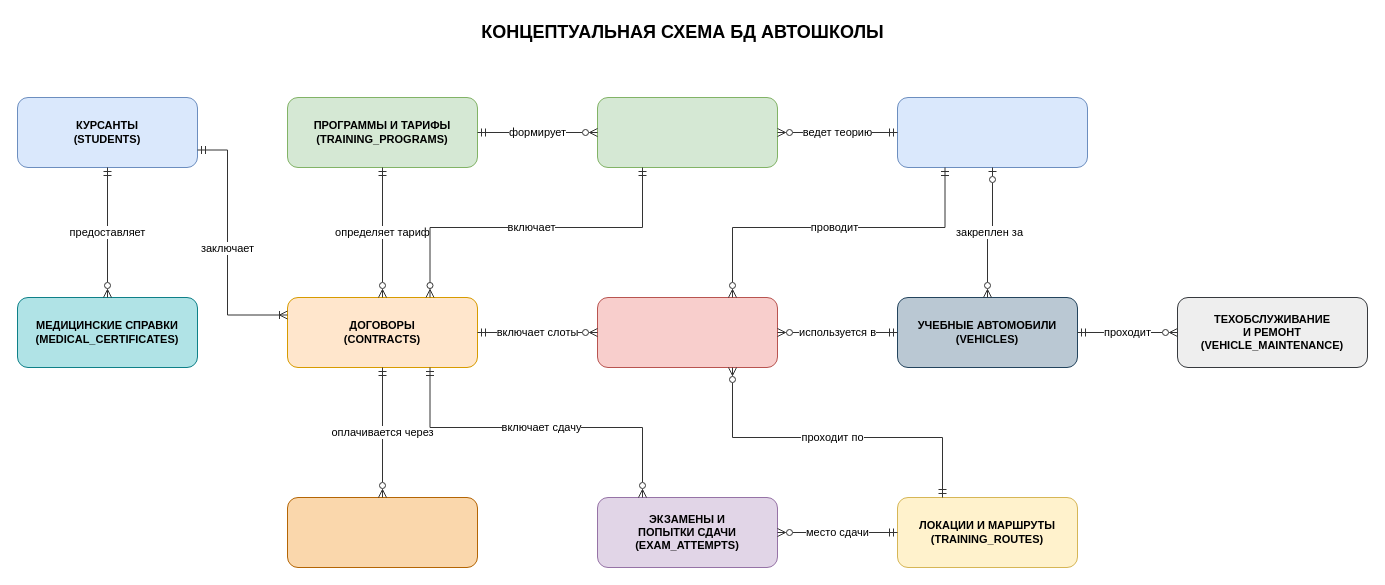
Some shapes in this 1385 by 585 pixel diagram are drawn without their labels. Each missing label, with the box of its shape:
ИНСТРУКТОРЫ И ПРЕПОДАВАТЕЛИ (INSTRUCTORS): (896, 96, 1088, 168)
ПЛАТЕЖИ (PAYMENTS): (286, 496, 478, 568)
ПРАКТИЧЕСКИЕ ЗАНЯТИЯ (DRIVING_LESSONS): (596, 296, 778, 368)
УЧЕБНЫЕ ГРУППЫ (STUDY_GROUPS): (596, 96, 778, 168)
